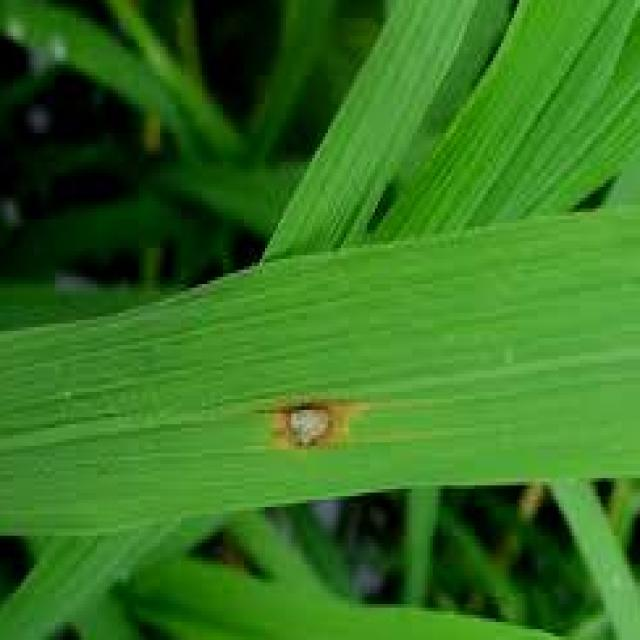Leaf_Blast: (254, 392, 362, 492)
